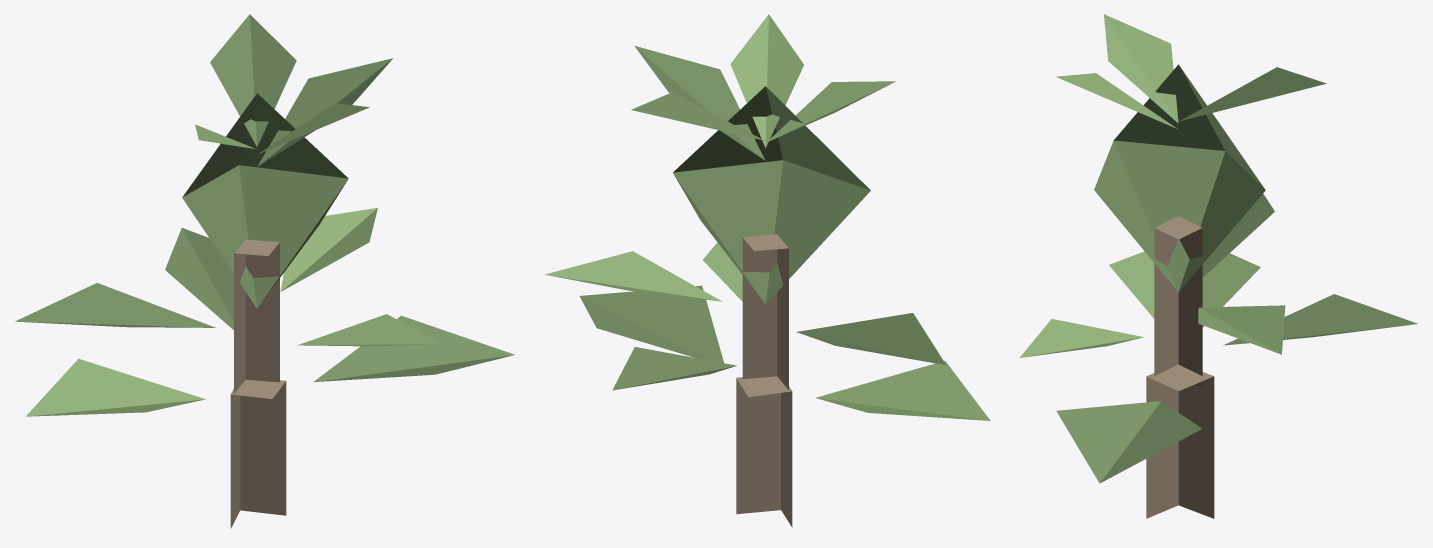
The model's file is nong.sang@seedling__spring.glb.
3 views of the same model, side by side, from view 1: azimuth 30°, elevation 25°; view 2: azimuth 150°, elevation 25°; view 3: azimuth 270°, elevation 25° (orthographic). The views are drawn at different scales.
Visible parts, largest first — view 1: nong.sang@seedling__spring; view 2: nong.sang@seedling__spring; view 3: nong.sang@seedling__spring.
Boxes of the visible parts, box(x1,y1,x2,y2) form: nong.sang@seedling__spring: box(15, 14, 514, 528); nong.sang@seedling__spring: box(545, 14, 990, 527); nong.sang@seedling__spring: box(1020, 14, 1417, 518).
Bounding box in the file's own units: 0.7063 × 0.67 × 0.5149.
